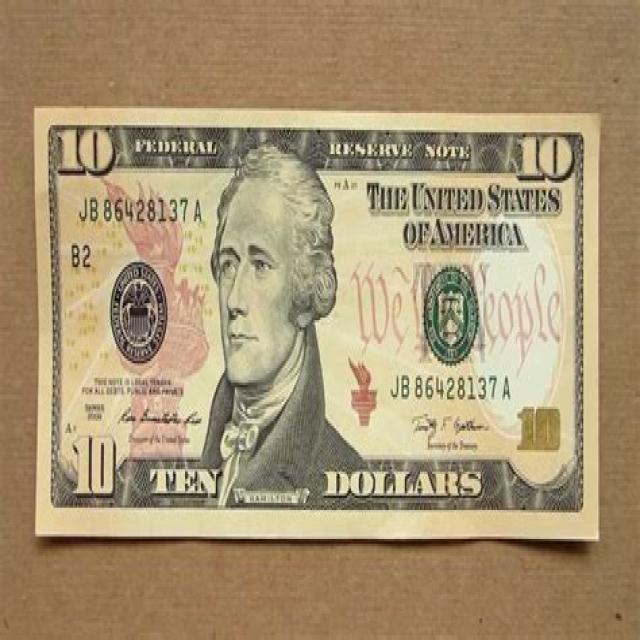Ten: (33, 108, 600, 540)
